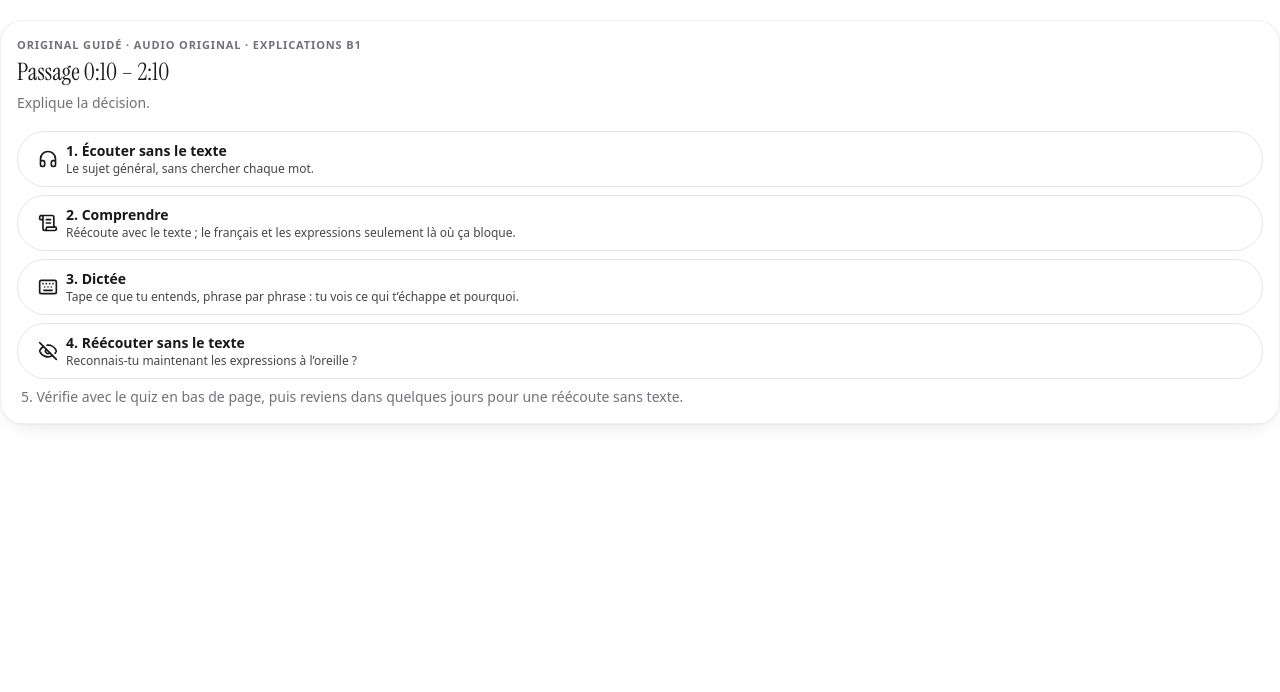
Test: ajoute une expression, ou toutes, à la révision avec sa phrase
This screenshot has width=1280, height=692.
Click the text "2. Comprendre": (117, 214) [66, 205, 169, 224]
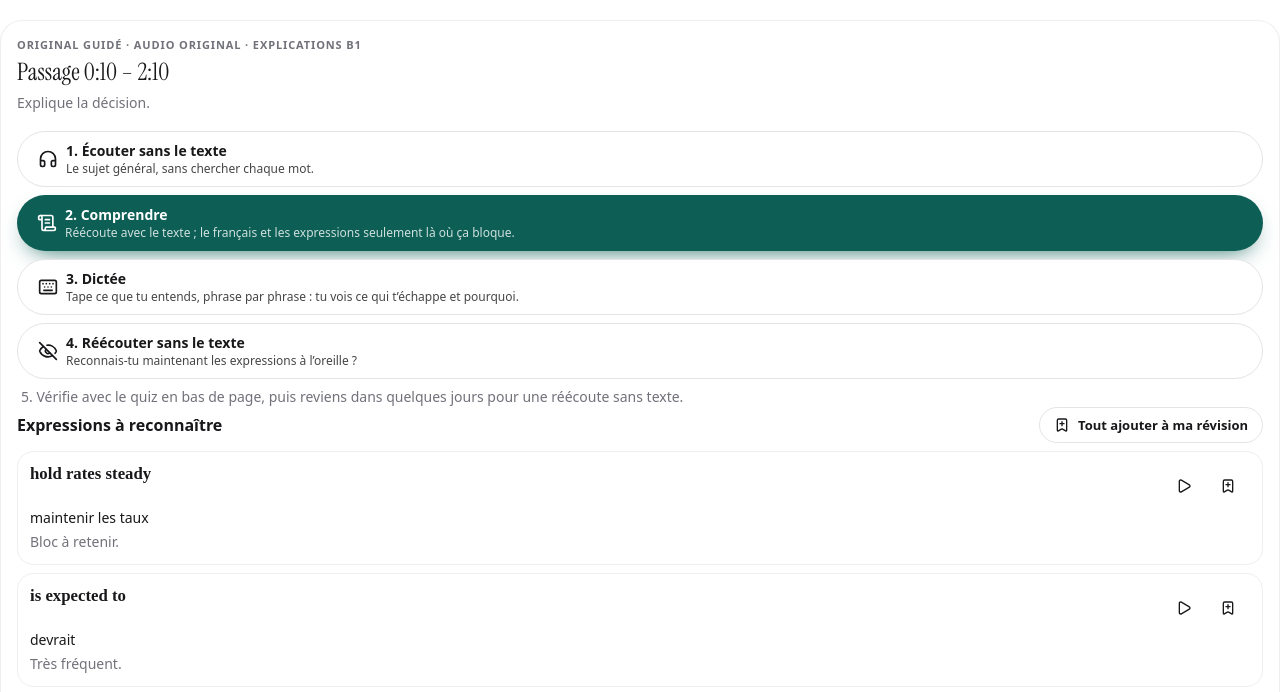
Click the button named "Ajouter « hold rates steady » à ma révision": (1228, 486) [1206, 464, 1250, 508]
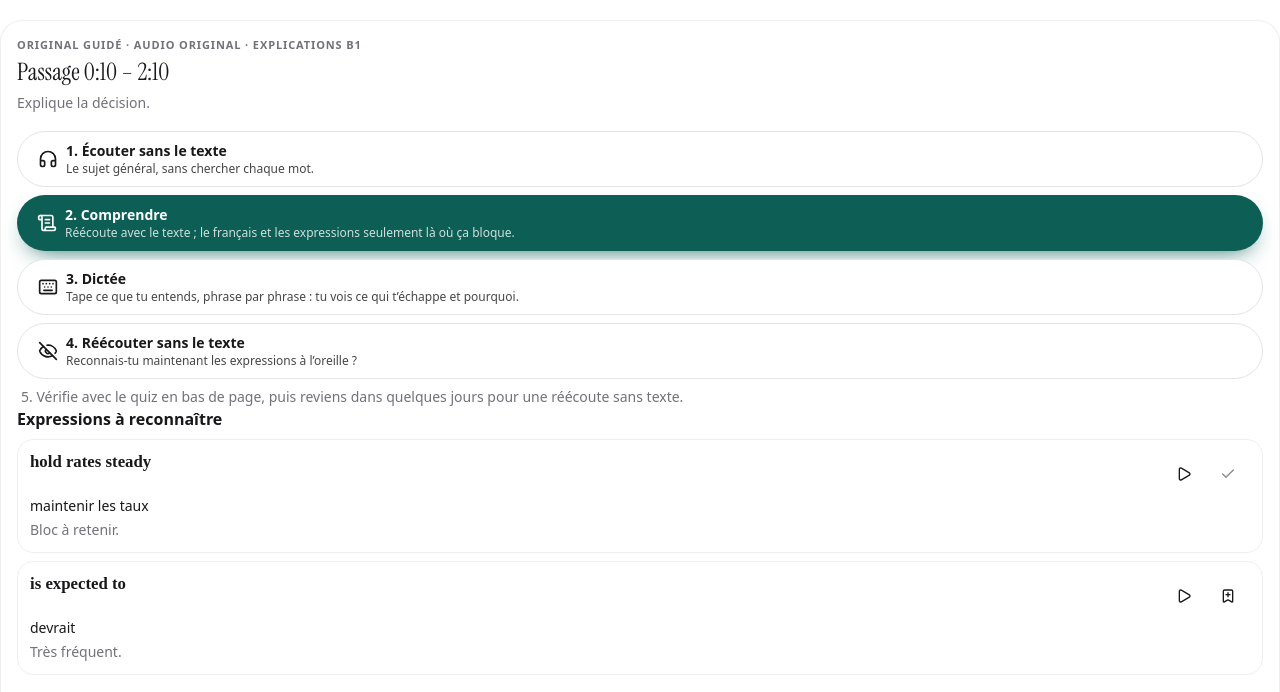
Result: the button named "« hold rates steady » est dans ta révision" is shown at [1206, 452, 1250, 496]
Result: the button "Tout ajouter à ma révision" is gone
